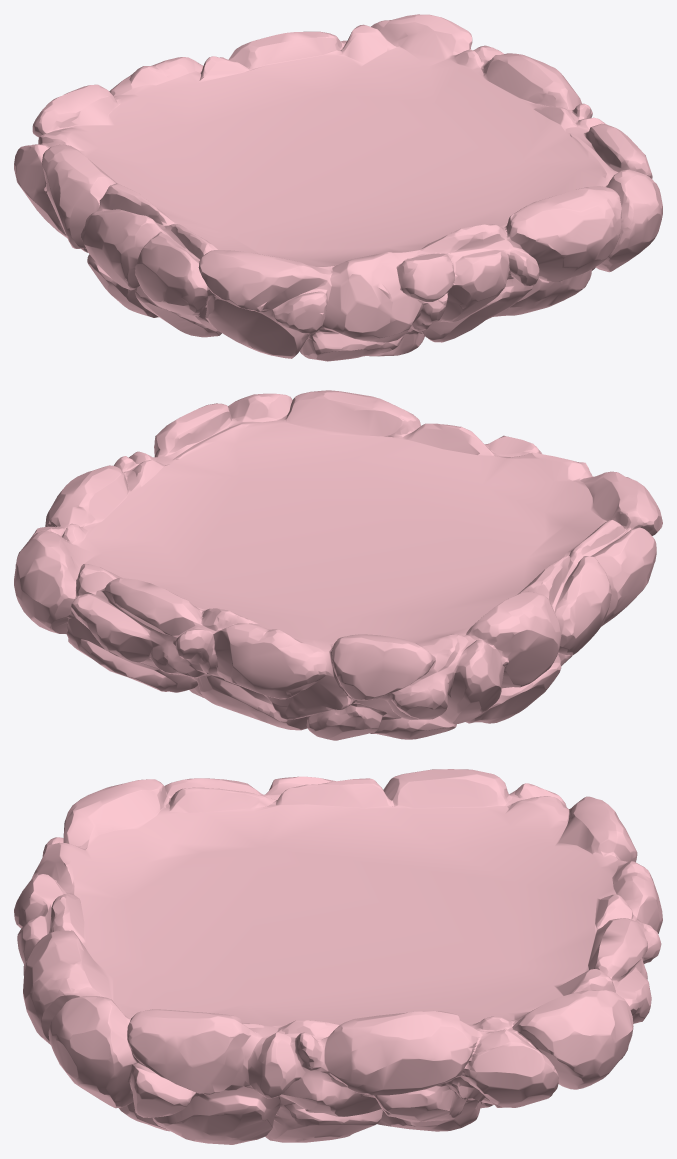
Rendered from island_6_LOD1.fbx.
3 renders of one model, top to bottom at view 1: azimuth 30°, elevation 25°; view 2: azimuth 150°, elevation 25°; view 3: azimuth 270°, elevation 25°, orthographic. The views are drawn at different scales.
Parts seen in each view (by area): view 1: island_6_LOD1; view 2: island_6_LOD1; view 3: island_6_LOD1.
Boxes of the visible parts, x1,y1,x2,y2 form: island_6_LOD1: [14, 14, 662, 361]; island_6_LOD1: [14, 390, 662, 740]; island_6_LOD1: [14, 769, 662, 1144].
Bounding box in the file's own units: 2636 × 753 × 2586.
